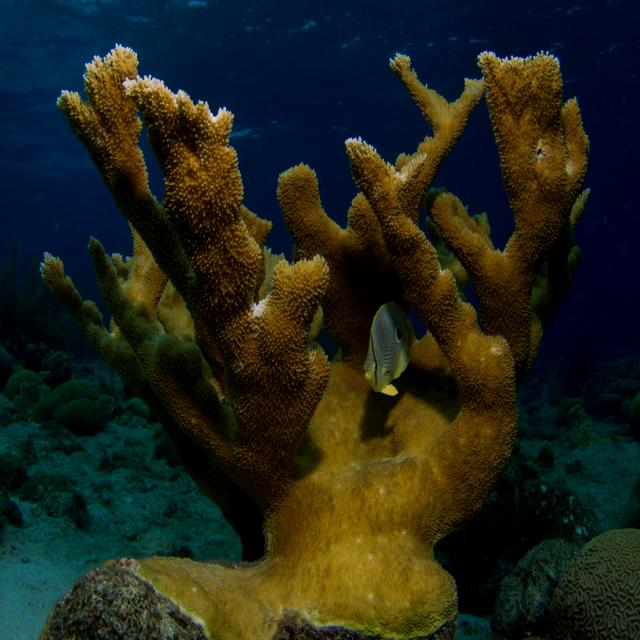Coral: (38, 42, 593, 640), (548, 519, 640, 640)
